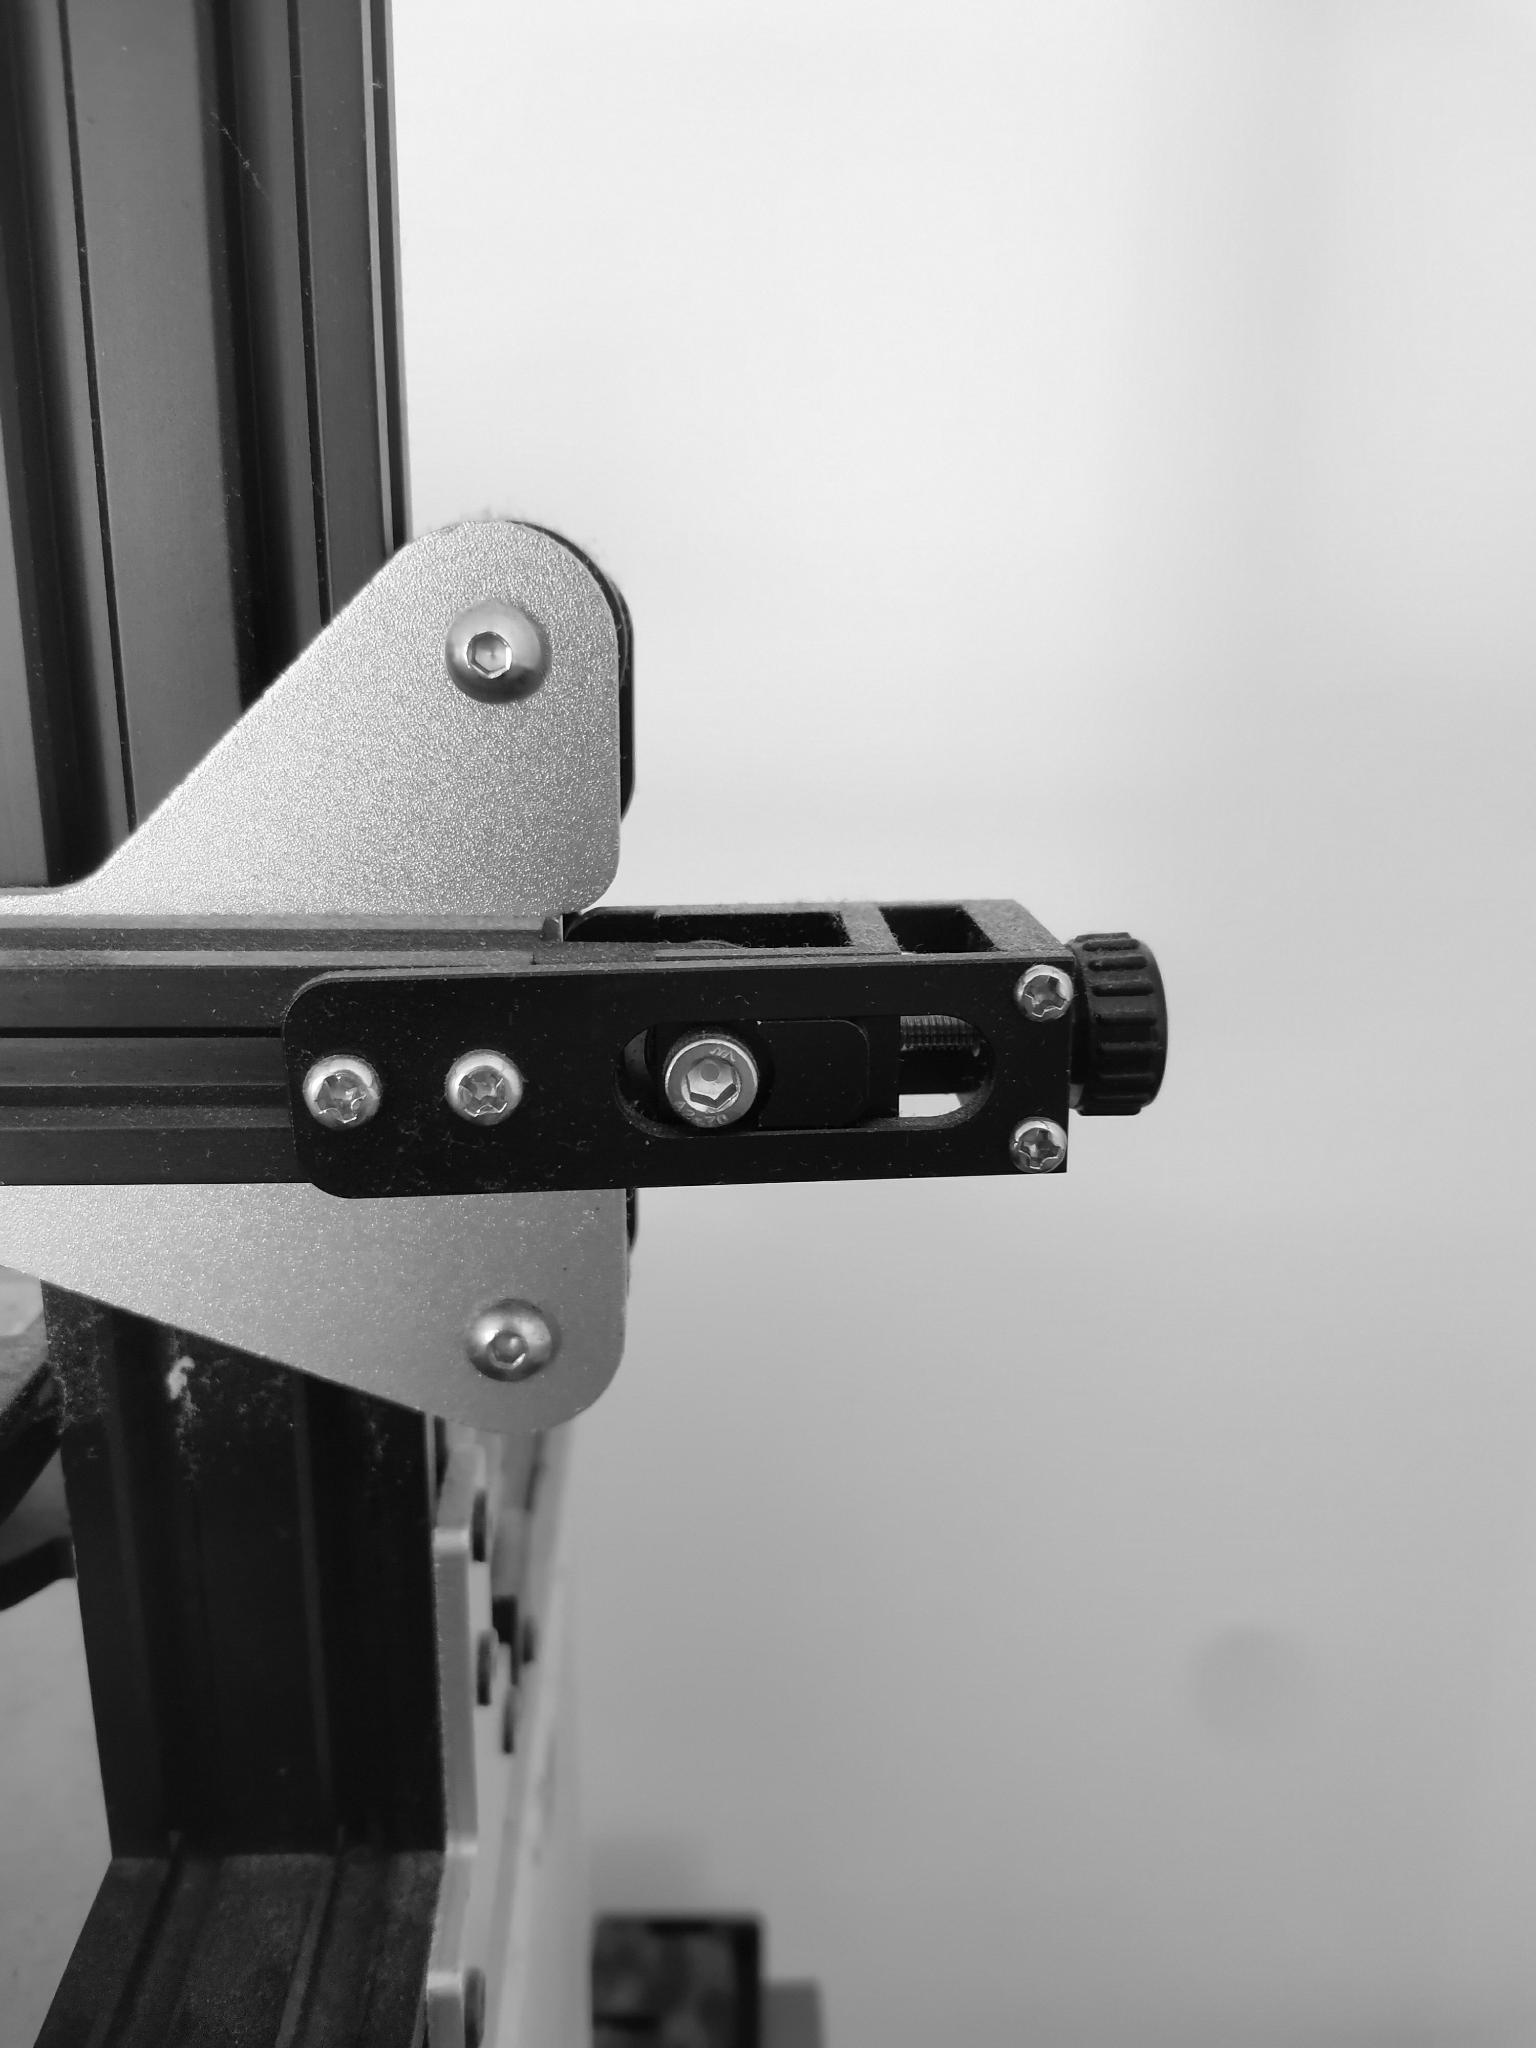screw: (440, 595, 552, 703), (663, 1039, 762, 1134), (442, 1047, 526, 1127), (297, 1058, 379, 1137), (1008, 959, 1073, 1027), (1010, 1121, 1075, 1180)
